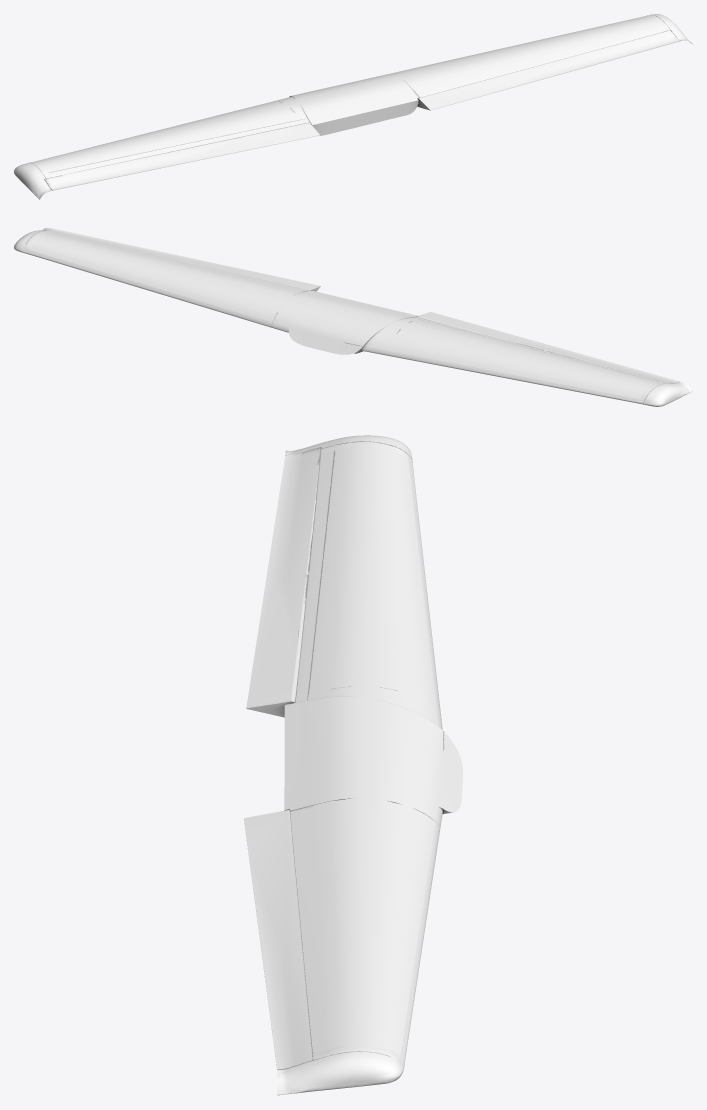
Rendered from Dragonfly_Cannard.fbx.
3 views of the same model, one above another, from view 1: azimuth 30°, elevation 25°; view 2: azimuth 150°, elevation 25°; view 3: azimuth 270°, elevation 25° (orthographic). The views are drawn at different scales.
Parts seen in each view (by area): view 1: CanardWing_WingLetsLeft.001, Body1.015, Body1.016; view 2: CanardWing_WingLetsLeft.001, Body1.015, Body1.016; view 3: CanardWing_WingLetsLeft.001, Body1.015, Body1.016.
Part boxes in pixels (bbox=[...]): CanardWing_WingLetsLeft.001: bbox=[14, 14, 692, 199]; Body1.015: bbox=[44, 122, 319, 190]; Body1.016: bbox=[417, 30, 679, 110]; CanardWing_WingLetsLeft.001: bbox=[14, 228, 692, 406]; Body1.015: bbox=[417, 312, 679, 383]; Body1.016: bbox=[45, 228, 320, 291]; CanardWing_WingLetsLeft.001: bbox=[277, 435, 462, 1095]; Body1.015: bbox=[246, 447, 321, 717]; Body1.016: bbox=[244, 810, 313, 1069].
Size of the model in its own units: 658 by 22.14 by 95.87.
